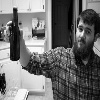beer: (9, 1, 21, 65)
